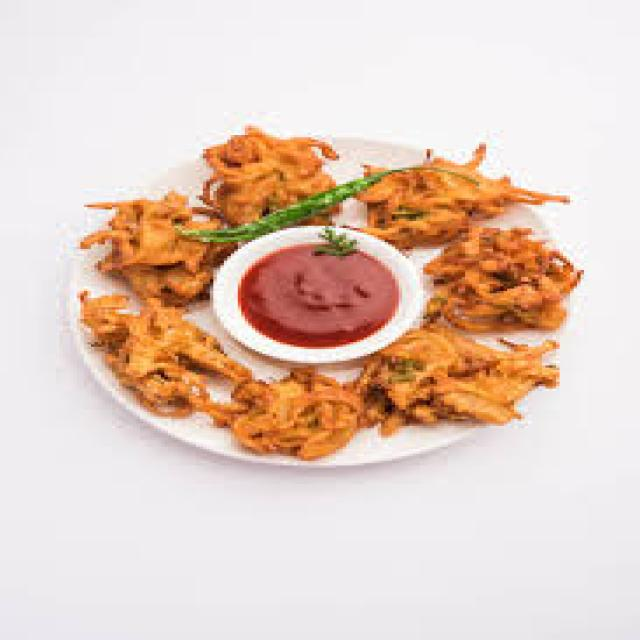BAJI: (357, 332, 552, 423), (98, 295, 246, 410), (426, 229, 576, 331), (370, 162, 553, 240), (220, 365, 365, 452), (102, 201, 218, 302), (213, 134, 324, 221)
